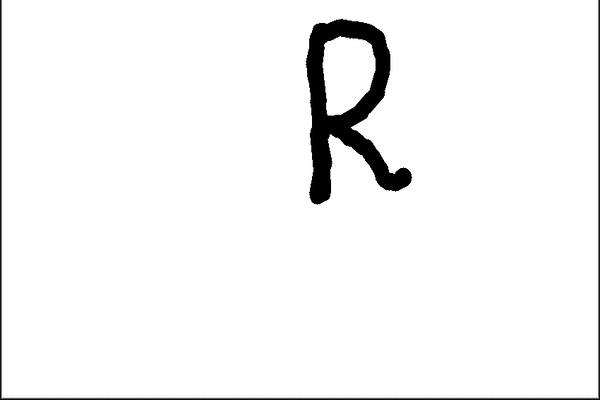R: (287, 13, 417, 212)
